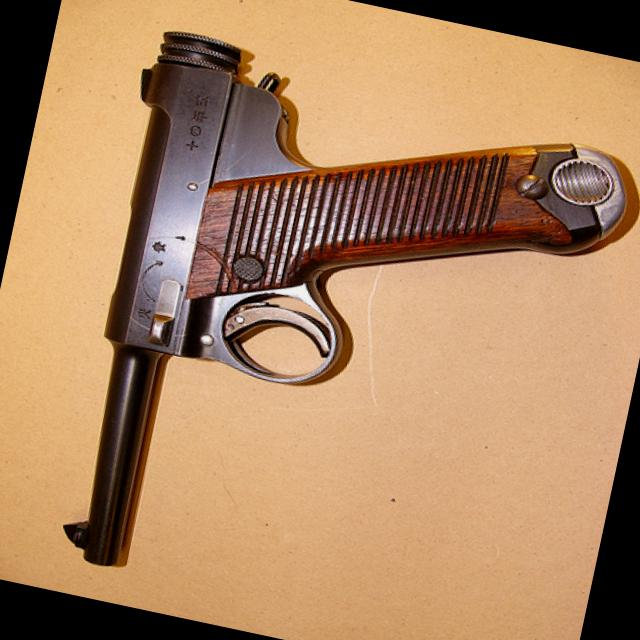handgun: (30, 23, 639, 639)
